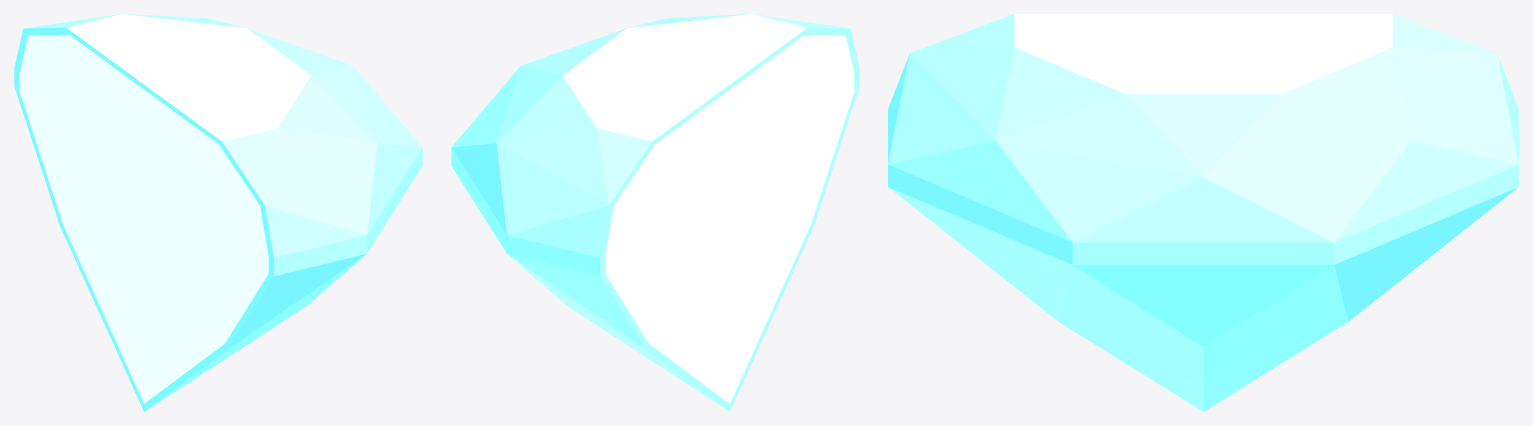
3 views of the same model, side by side, from view 1: azimuth 30°, elevation 25°; view 2: azimuth 150°, elevation 25°; view 3: azimuth 270°, elevation 25° (orthographic). The views are drawn at different scales.
Visible parts, largest first — view 1: Diamond-left; view 2: Diamond-left; view 3: Diamond-left.
Boxes of the visible parts, x1=… form: Diamond-left: x1=14, y1=14, x2=422, y2=411; Diamond-left: x1=451, y1=14, x2=859, y2=411; Diamond-left: x1=888, y1=14, x2=1518, y2=411.
Bounding box in the file's own units: 0.3472 × 0.4833 × 0.6944.
